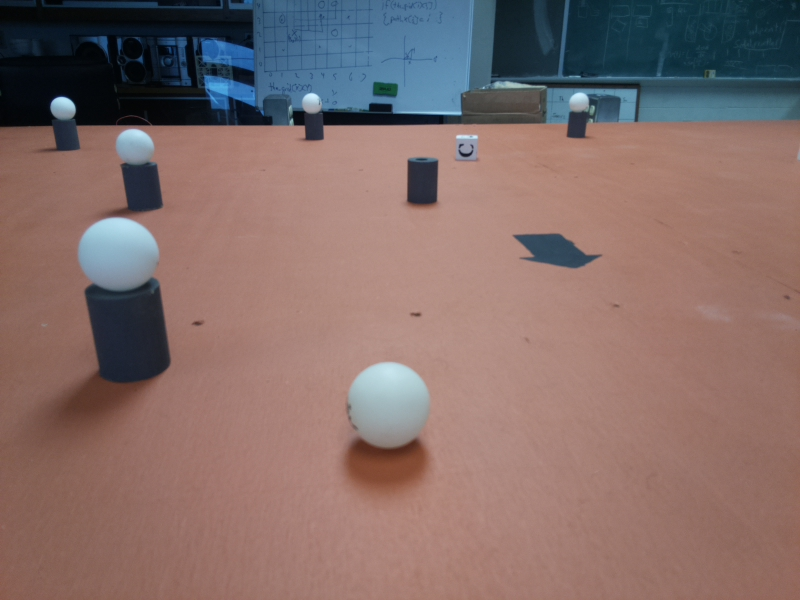blockC: (454, 133, 476, 161)
obstacle: (84, 218, 166, 378), (117, 128, 161, 208), (407, 156, 441, 210), (51, 91, 74, 158), (567, 92, 587, 141), (304, 93, 321, 142)
start: (516, 228, 603, 273)
